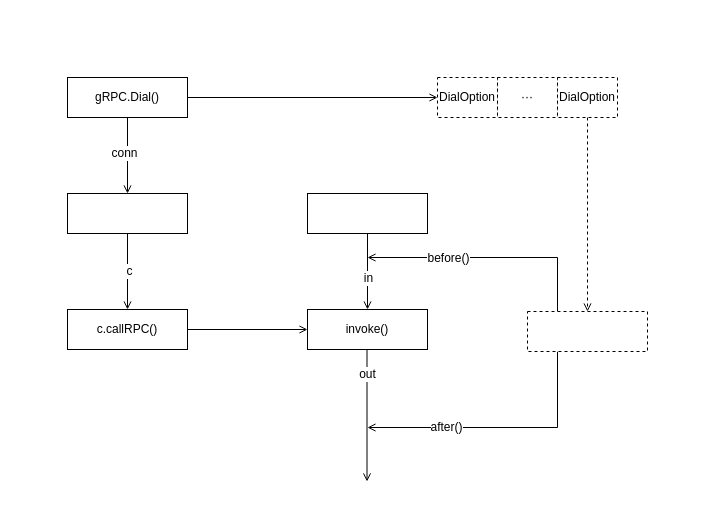
This 704x514 diagram has some shape labels left out. Each missing label, with the centre of its shape:
CallOption: point (587, 331)
pb.NewGRPCClient(): point (127, 213)
request: point (367, 213)
